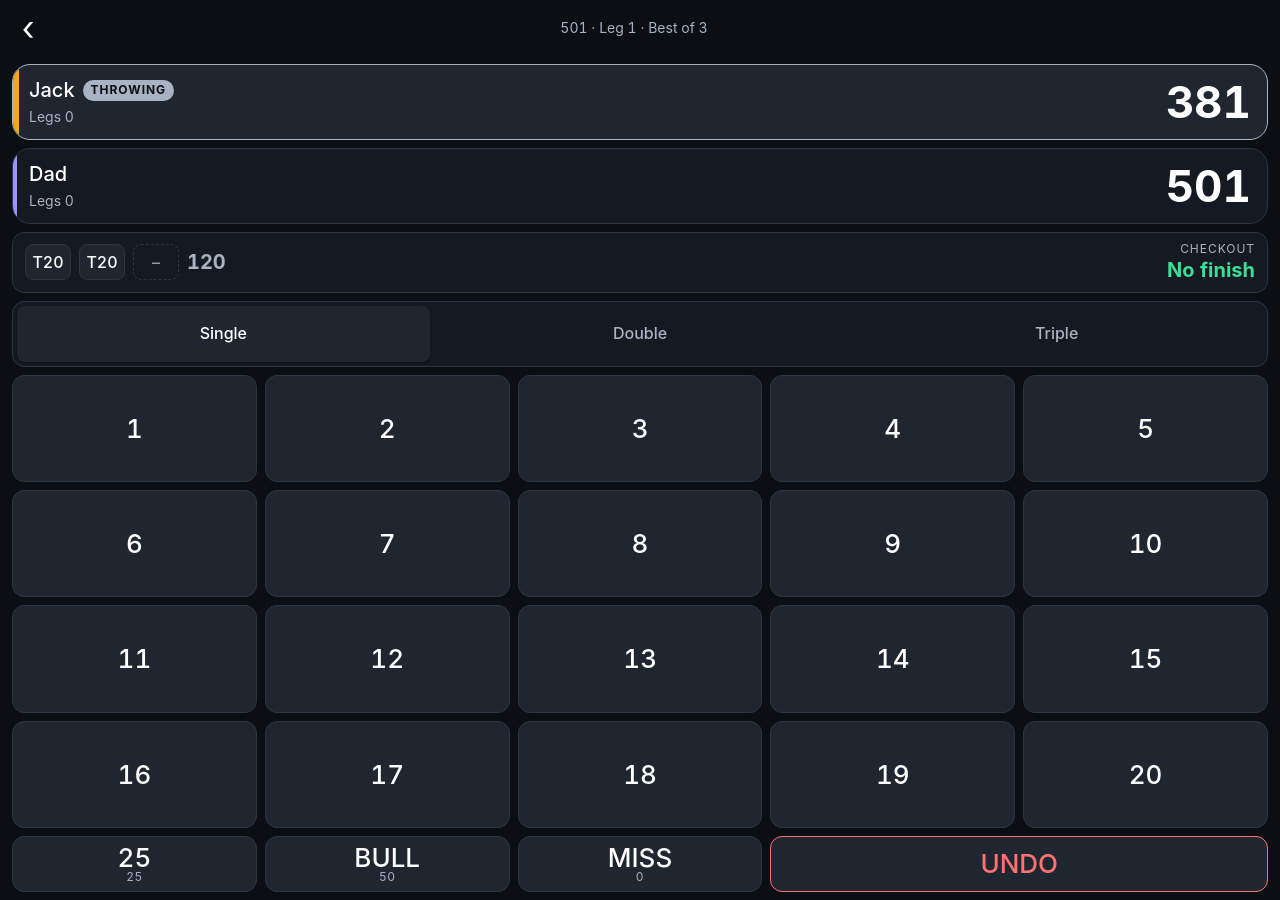
Scenario: the visit strip when the turn passes › clears for the next thrower once a third dart lands, and keeps the total
Click the radio button labelled "Triple" at (1057, 334), box [850,306,1263,362]
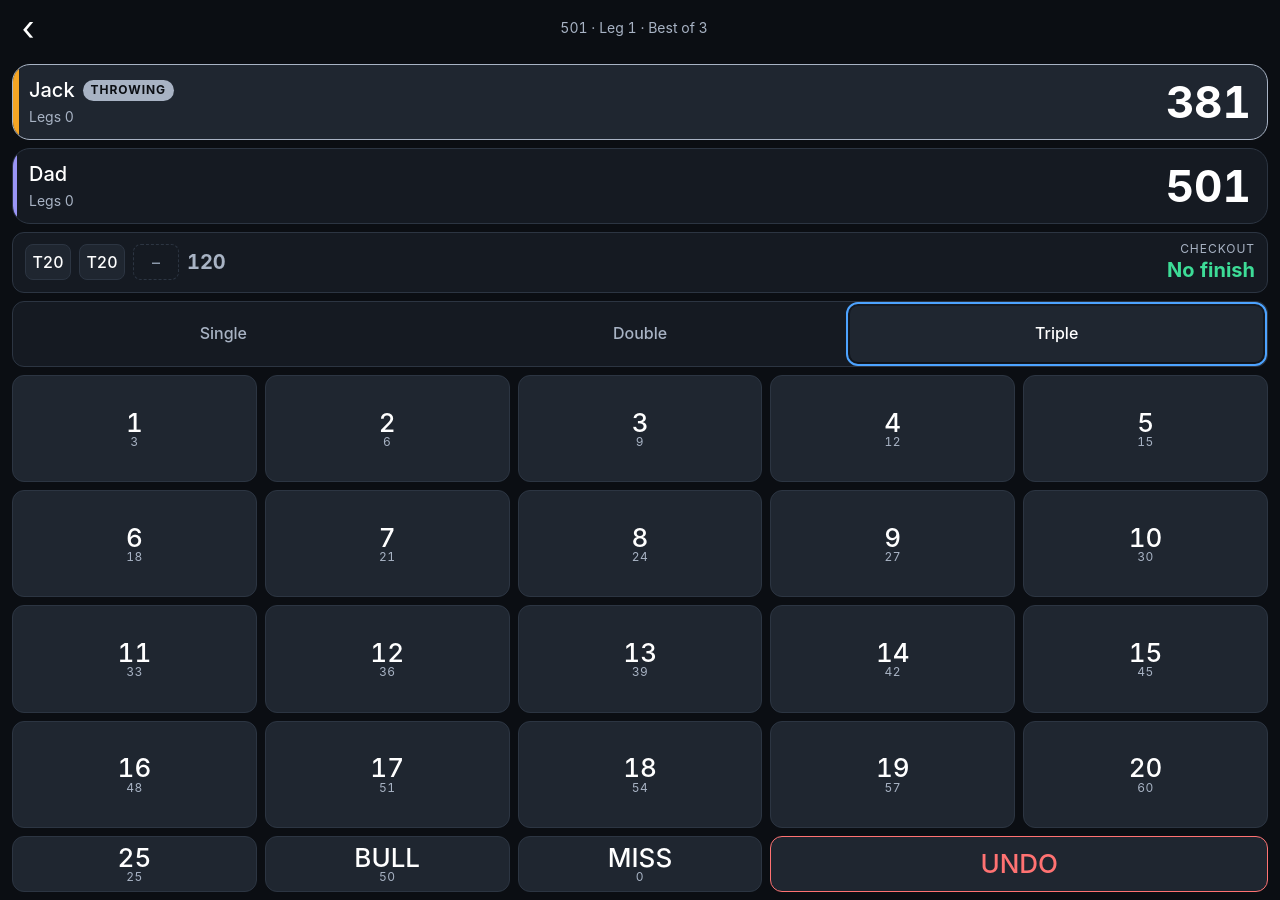
Click the button named "20, triple, 60" at (1146, 774), box [1023,721,1268,828]
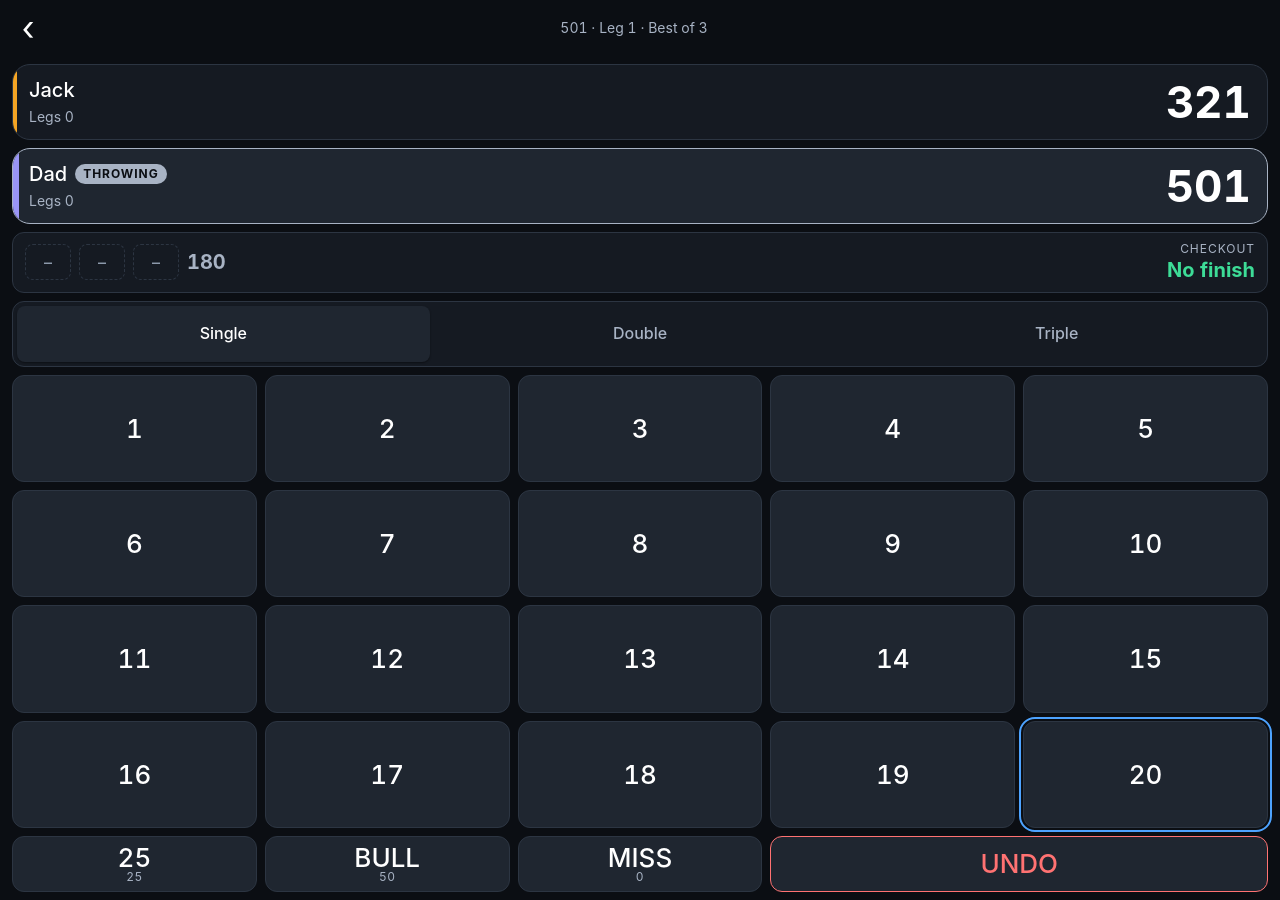
expect the element named "Dad, 501 remaining, 0 legs won, throwing now" is shown: met, box [12,148,1268,224]
expect the text named "Visit scored 180" is shown: met, box [187,249,226,276]
